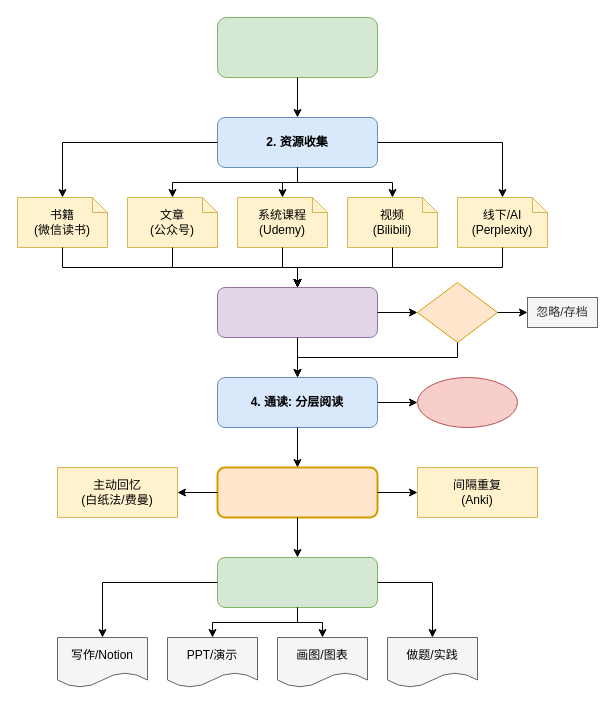
Image size: 615x705. Some labels were removed from this diagram. Here are the shapes that lost their labels. From the top down, the centre of each, then its label:
At point (297, 47): "1. 明确目标 (Notion)".
At point (297, 312): "3. 预习: 建立框架".
At point (457, 312): "价值判断?".
At point (467, 402): "AI 辅助理解 (ChatGPT)".
At point (297, 492): "5. 内化 (核心)".
At point (297, 582): "6. 外化: 产出成果".
